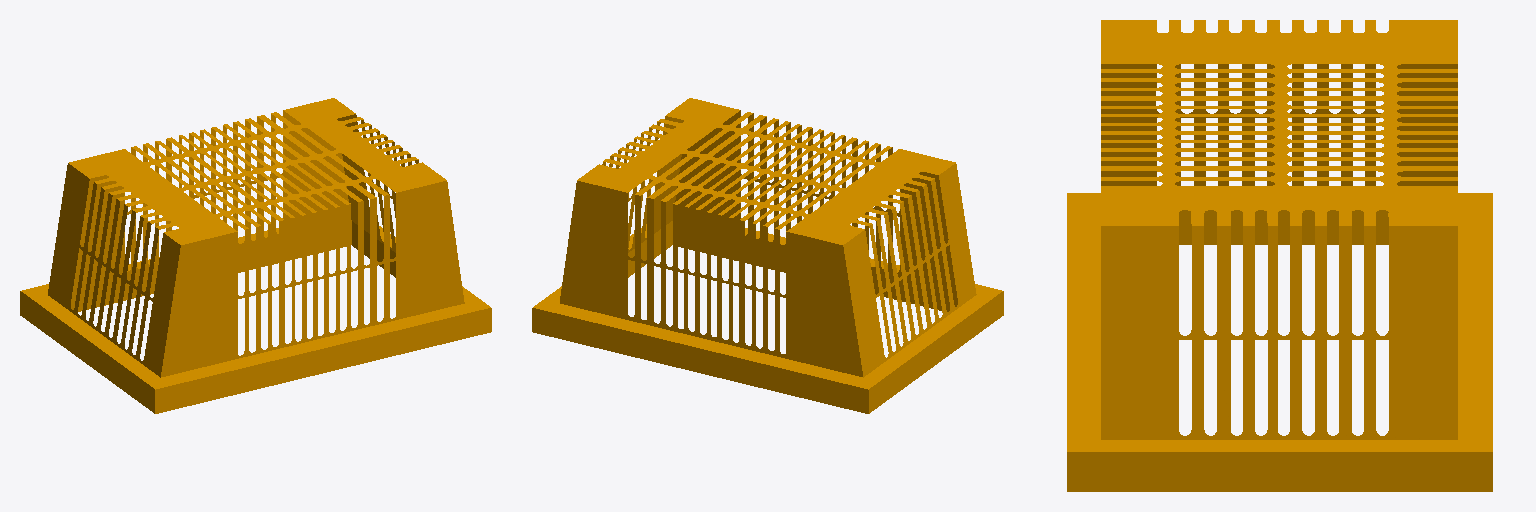
URDF robot description (bucket_body):
<?xml version="1.0"?>
<robot name="bucket_body">
    <link name="bucket_body">
        <visual>
            <geometry>
                <mesh filename="../../mesh/bucket/bucket.obj" scale="1 1 1"/>
            </geometry>
        </visual>
        <collision>
            <geometry>
                <mesh filename="../../mesh/bucket/bucket.obj" scale="1 1 1"/>
            </geometry>
            <sdf resolution="512"/>
        </collision>
        <!-- <inertial>
            <mass value="1."/>
            <inertia ixx="0.0001" ixy="0.0" ixz="0.0" iyy="0.0001" iyz="0.0" izz="0.0001"/>
        </inertial> -->
    </link>
</robot>

--- What the picture shows (computed from the rendered views, not written in the file) ---
The picture shows the robot from 3 angles, left to right: view 1: azimuth 30°, elevation 25°; view 2: azimuth 150°, elevation 25°; view 3: azimuth 270°, elevation 25°; orthographic projection.
Robot: bucket_body — 1 links, 0 joints (none); root link bucket_body; default pose: every joint at zero.
Links seen in each view (by area): view 1: bucket_body; view 2: bucket_body; view 3: bucket_body.
Boxes of the visible links, left/top/right/bottom form: bucket_body: left=20, top=98, right=491, bottom=413; bucket_body: left=532, top=98, right=1003, bottom=413; bucket_body: left=1067, top=20, right=1492, bottom=491.
Bounding box of the posed robot: 0.2482 × 0.1727 × 0.1073 m (x, y, z).
Meshes: 1 distinct files referenced, 1 mesh visuals loaded (1 OBJ).